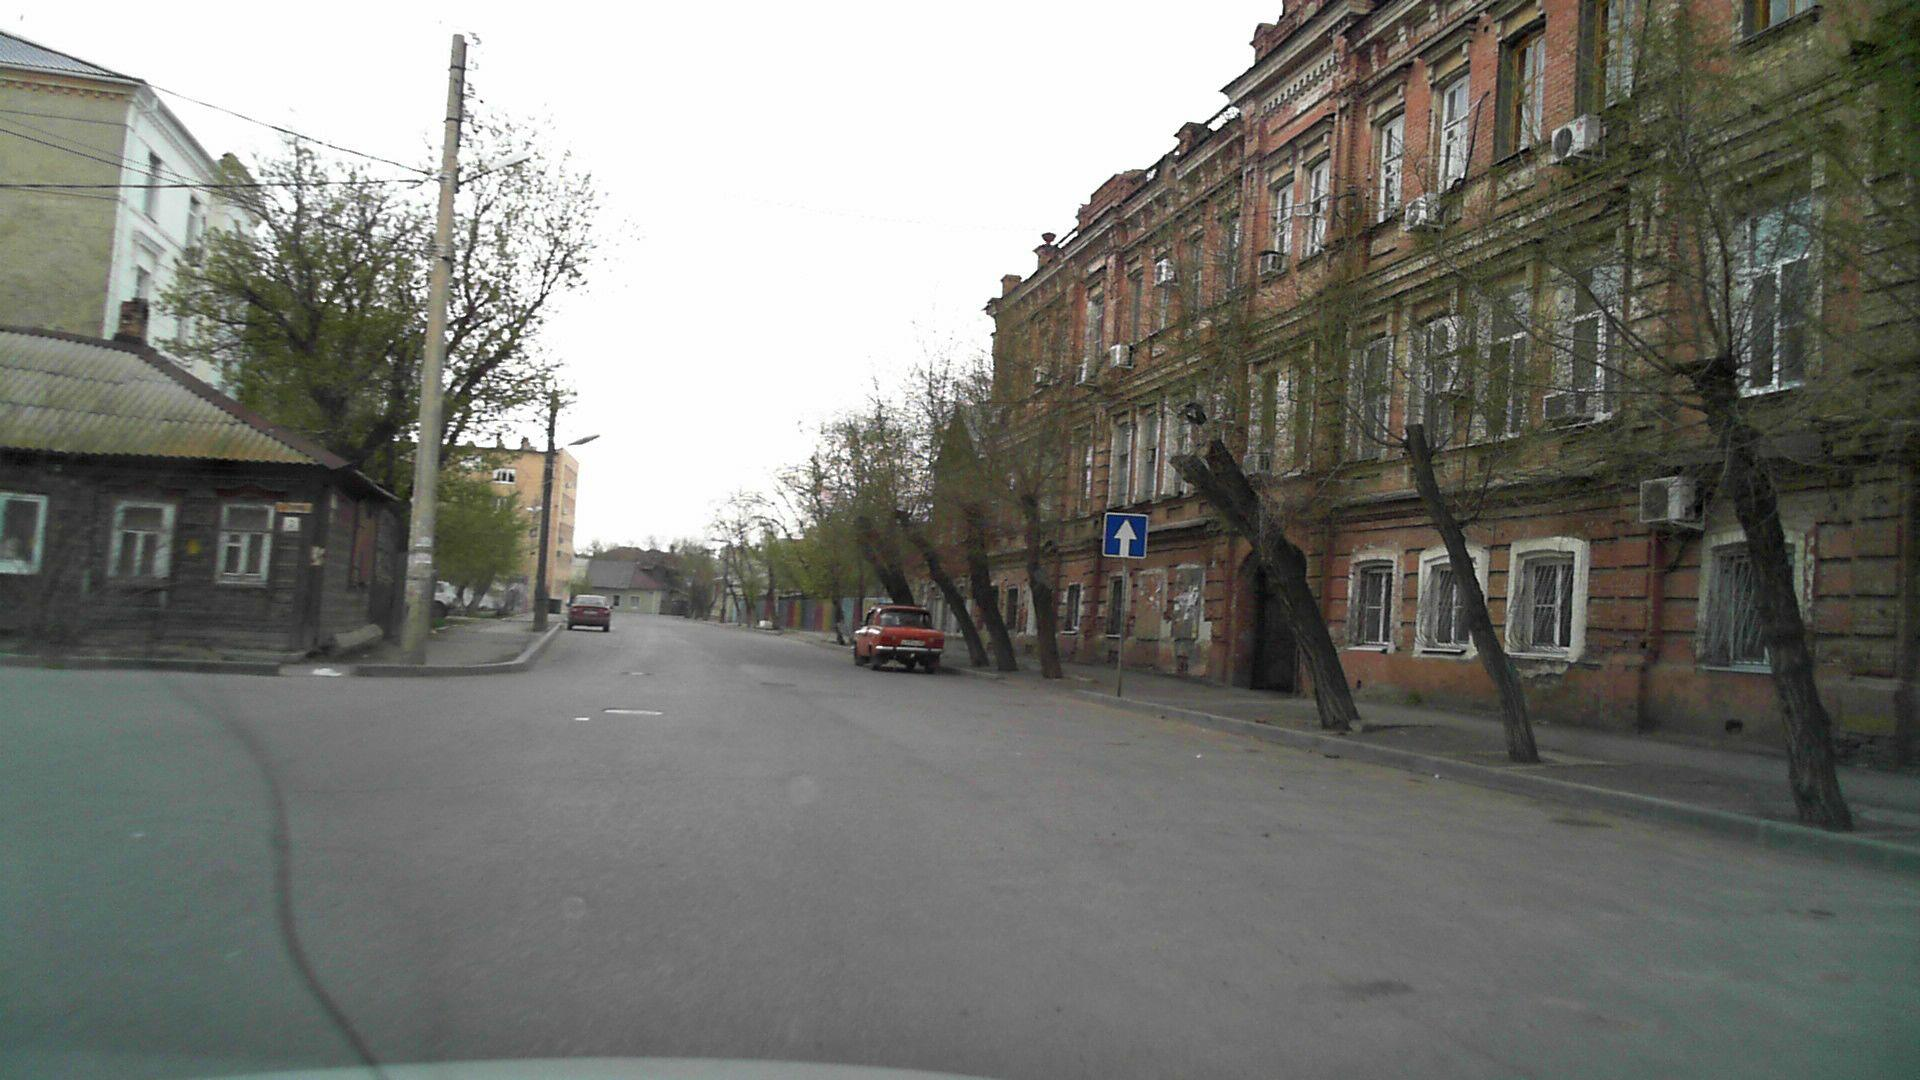5_5: (1104, 513, 1149, 558)
